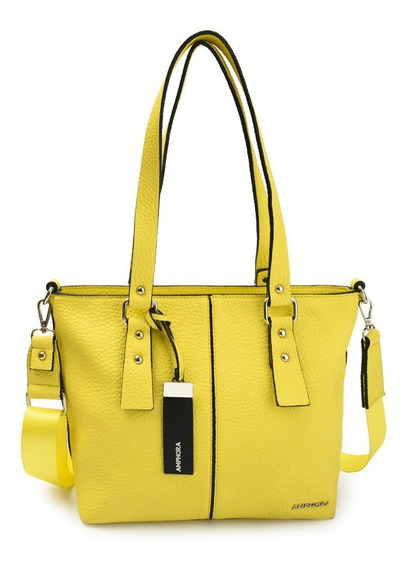cartera: (19, 31, 388, 528)
